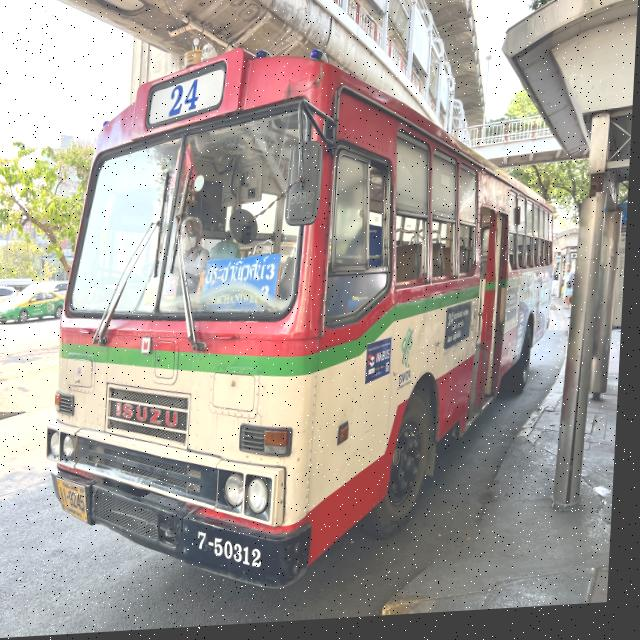BMTA-bus: (43, 37, 568, 605)
Bus-Line-Number: (143, 63, 229, 133)
Destination-Sign-Normal: (200, 256, 285, 317)
